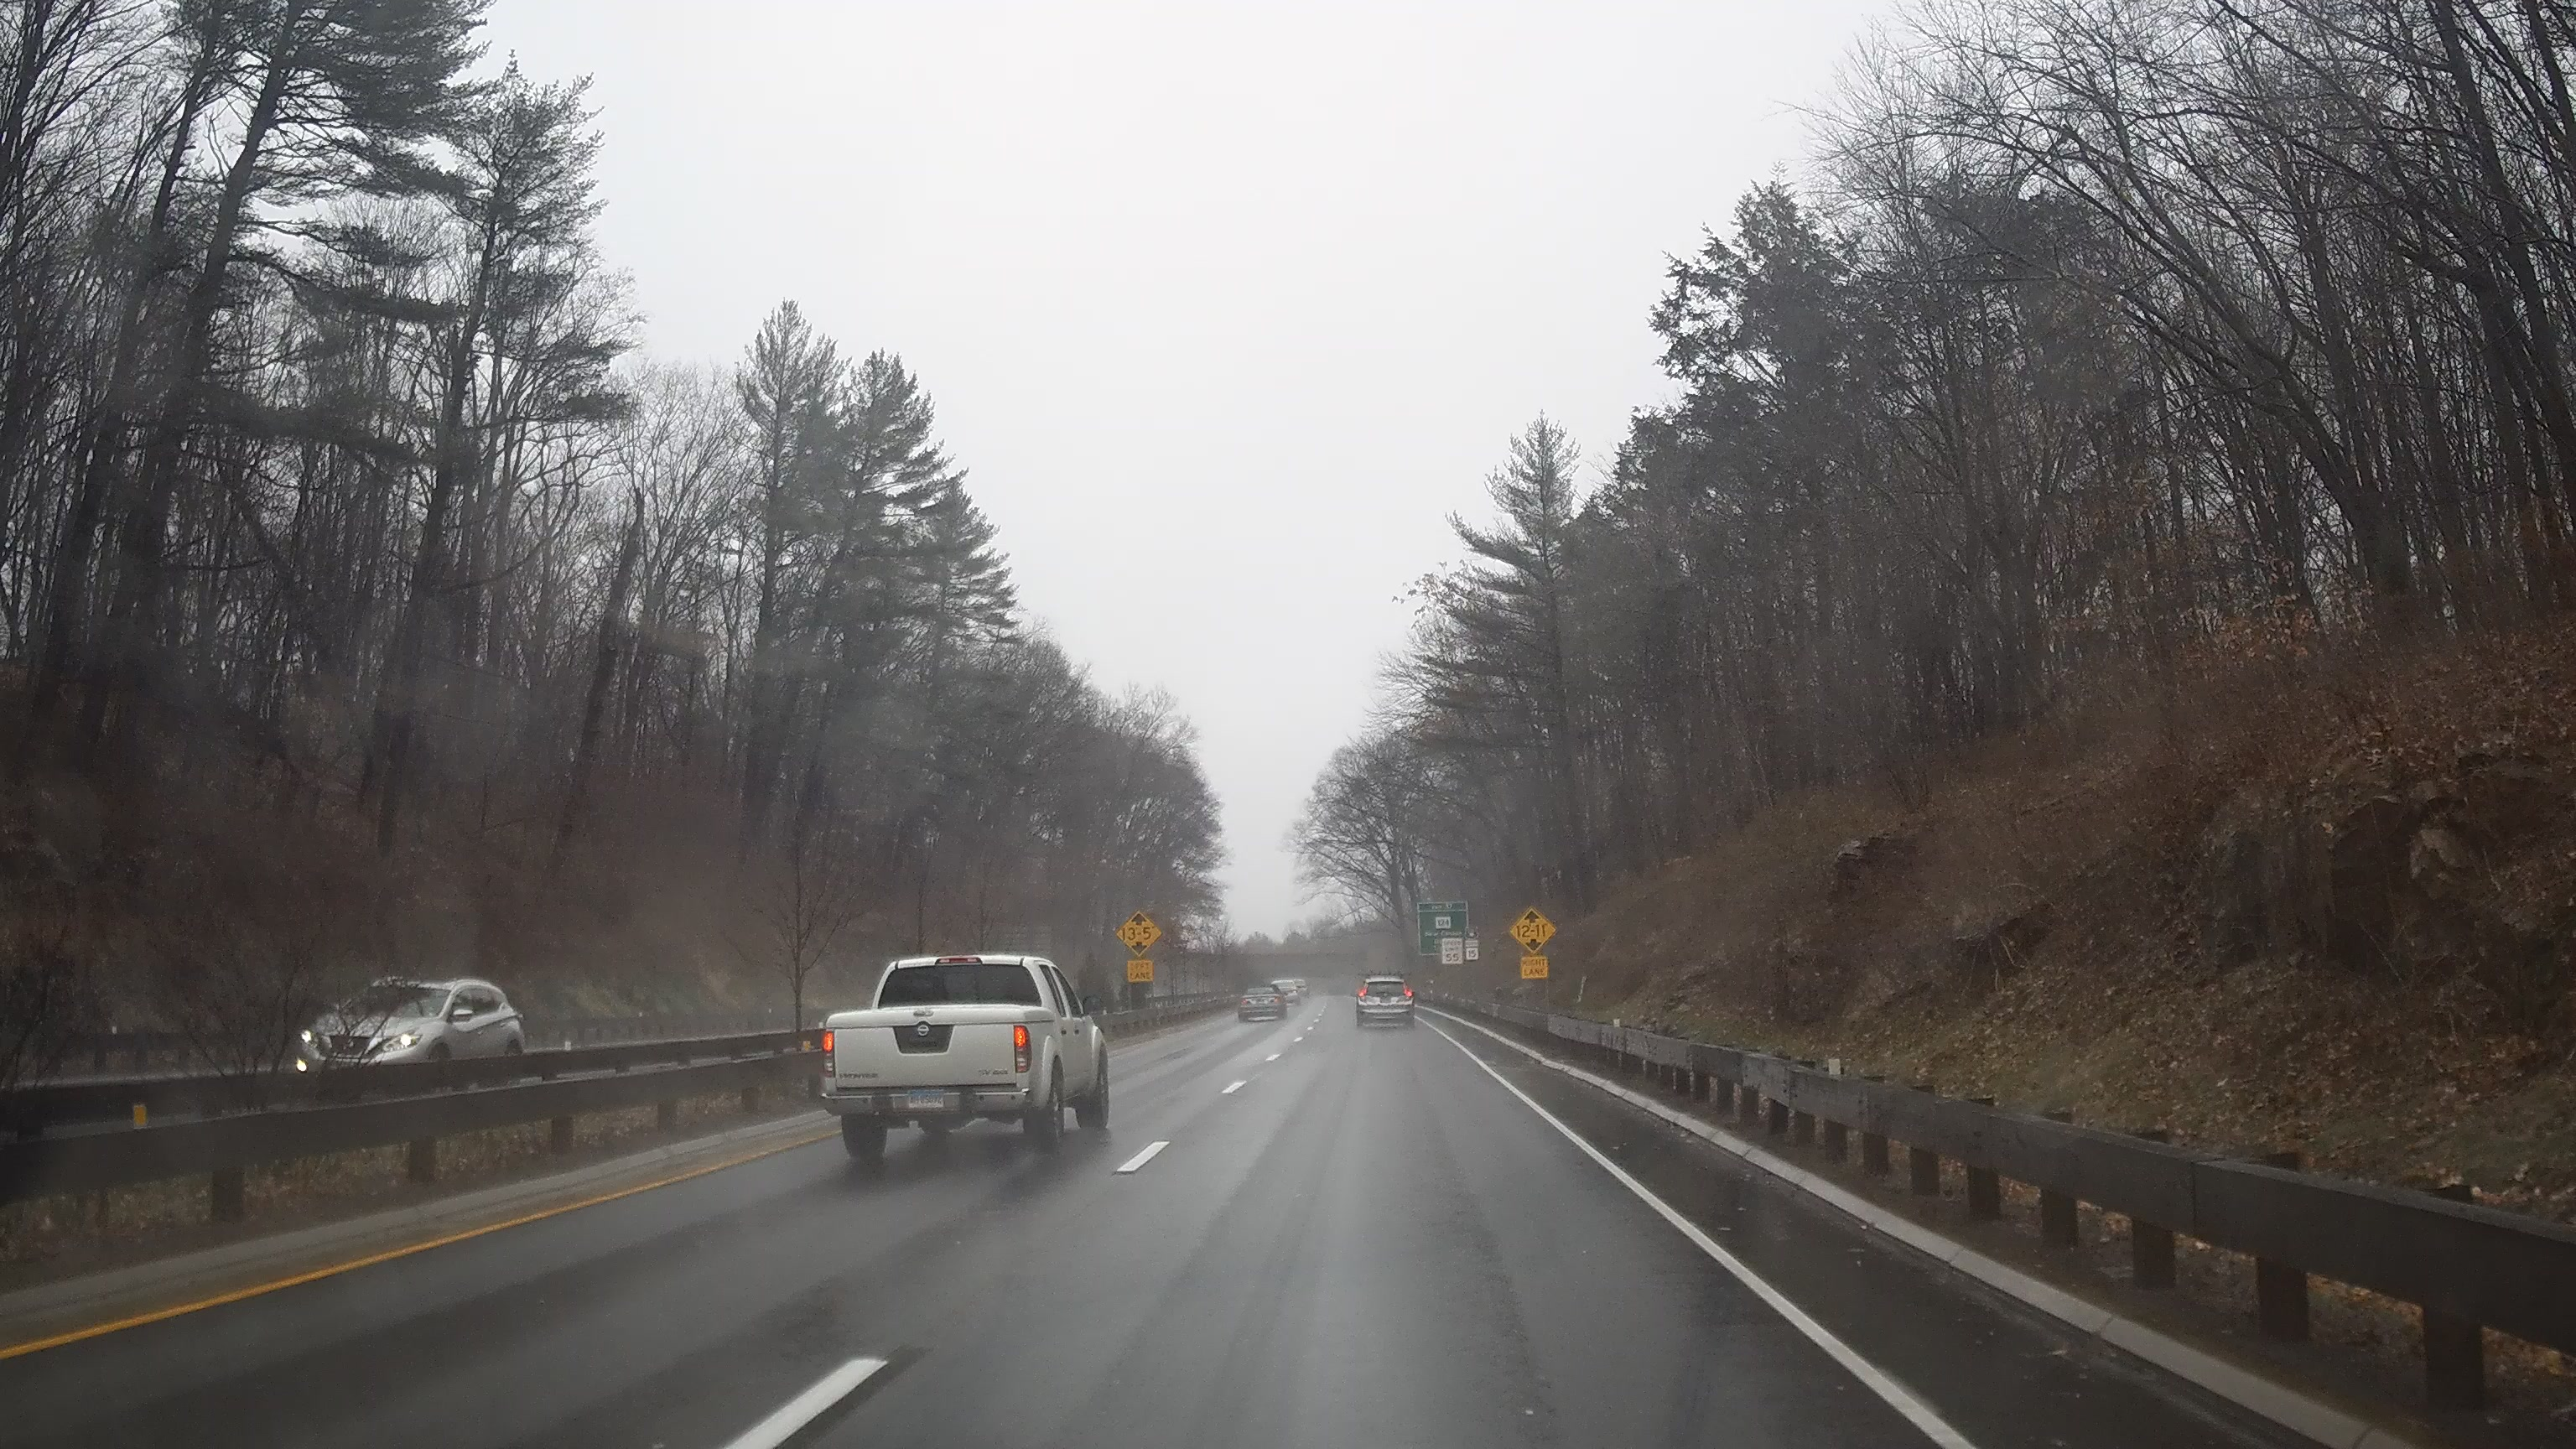low-clearance-sign: (1509, 904, 1557, 955), (1115, 909, 1162, 957)
